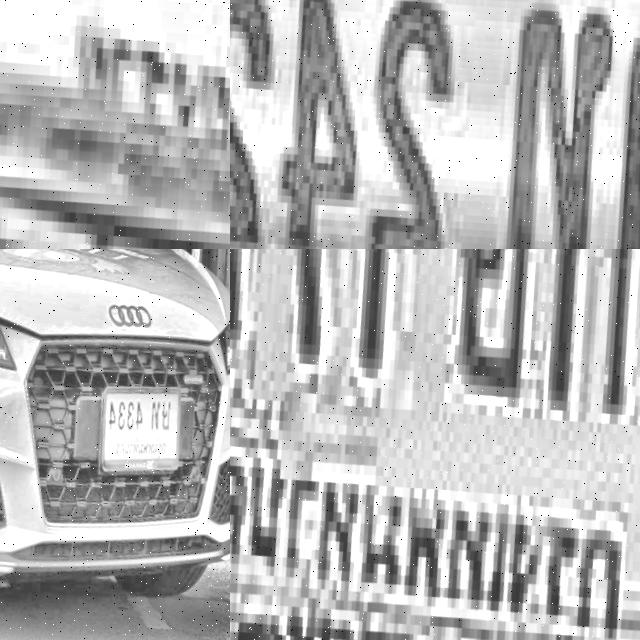license-plate: (230, 249, 640, 640), (230, 0, 640, 249), (0, 0, 230, 249), (82, 387, 181, 494)
